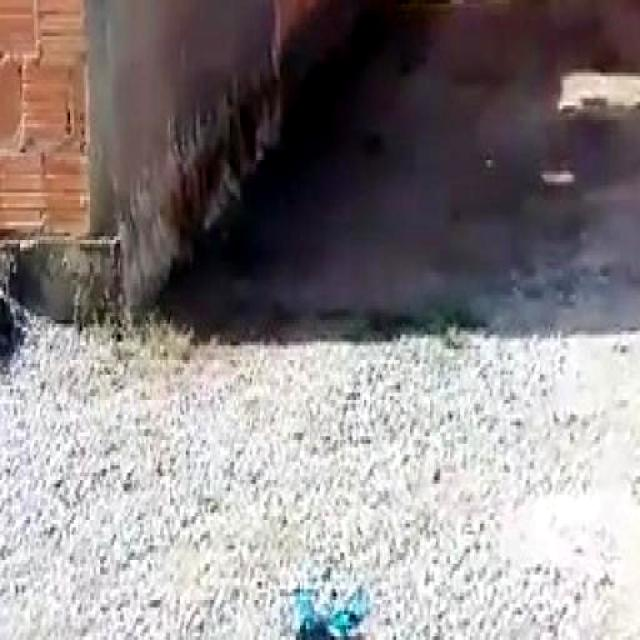bird: (275, 544, 381, 640)
